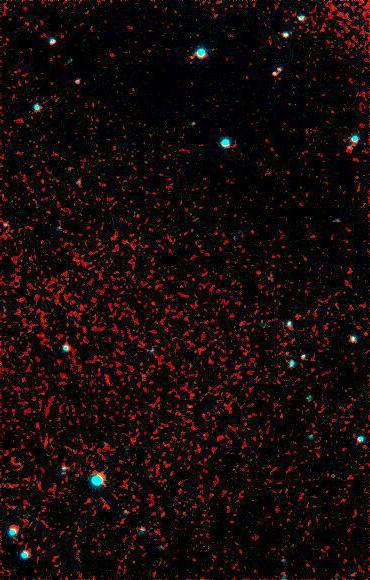star: (89, 481, 119, 511)
